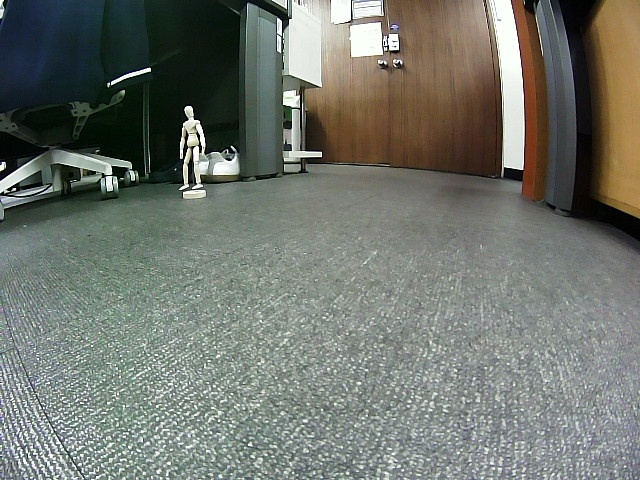person: (180, 106, 205, 190)
